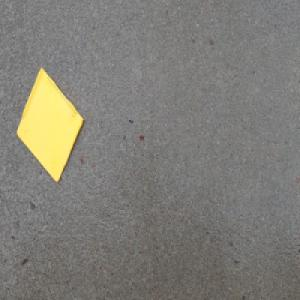PlasticPart: (16, 64, 86, 182)
